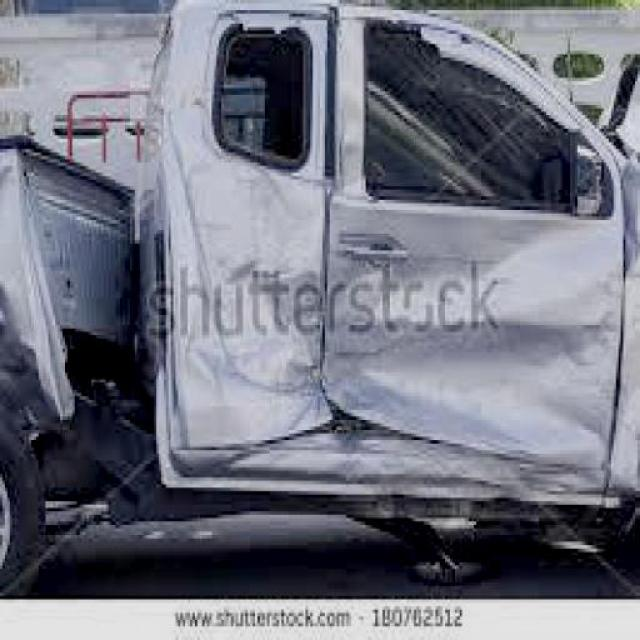car damage: (156, 8, 639, 494)
